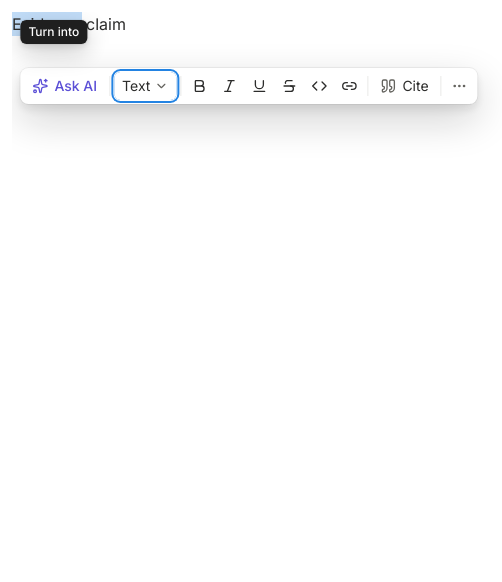
FloatingToolbar actions › opens a menu from the keyboard with focus on its first item, and Escape returns
// `detail: 0` is the click Enter and Space synthesize.
Click the button with aria-label "Turn into". click: click(145, 86)
box: x1=114 y1=72 x2=176 y2=100
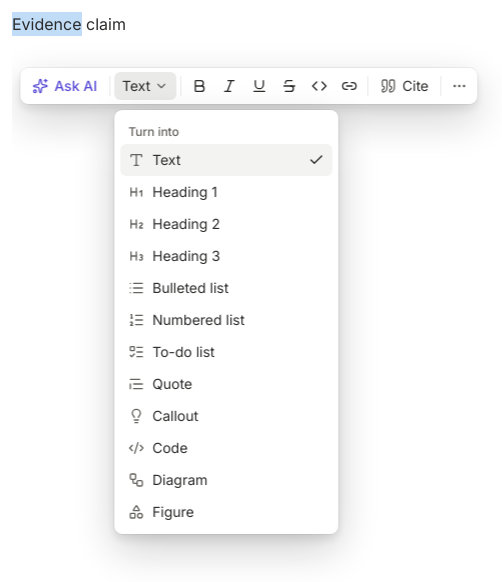
Press ArrowDown in the menu item "Text", box x1=120 y1=144 x2=332 y2=176
Expected: the menu item "Heading 1" is shown
Press Escape in the menu item "Heading 1", box x1=120 y1=176 x2=332 y2=208
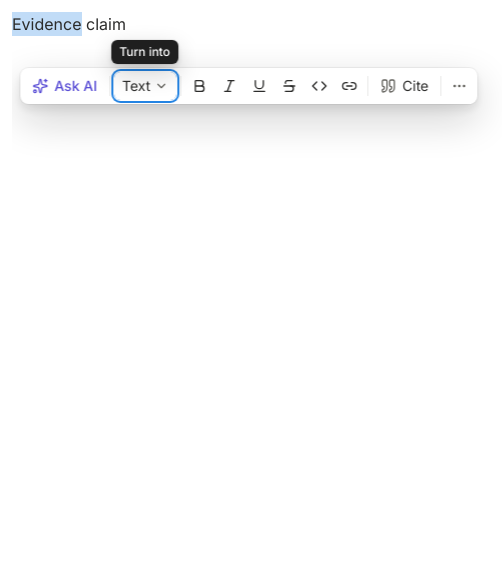
Expected: the element named "Text formatting" is shown, x1=20 y1=68 x2=477 y2=104
Expected: the menu is gone
